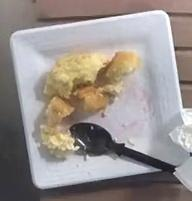dessert: (40, 52, 140, 161)
